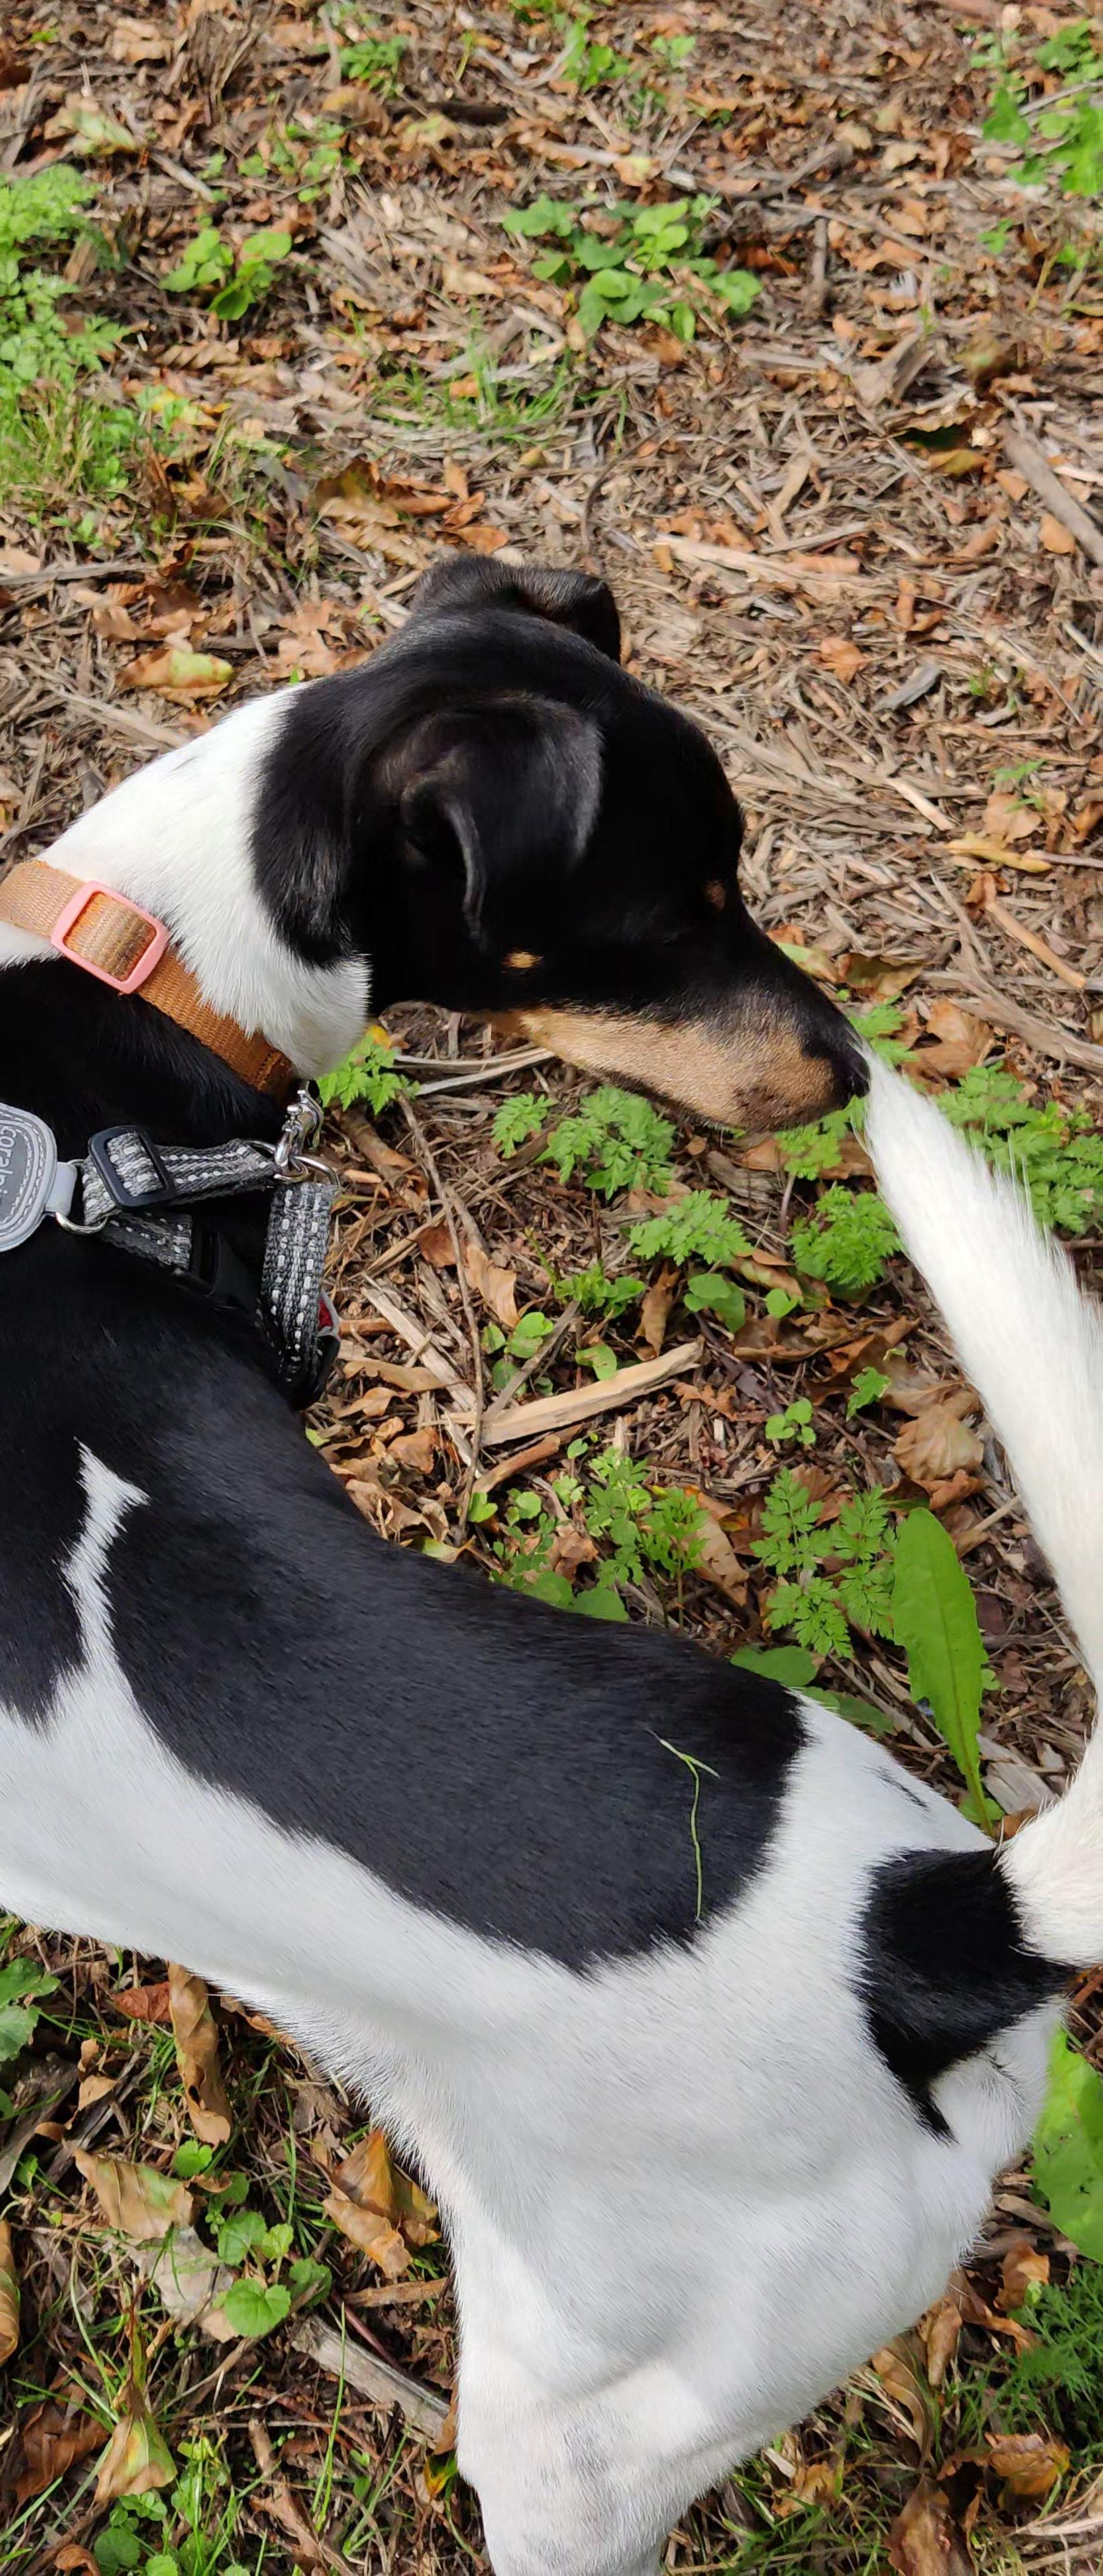Dog: (0, 545, 1103, 2576)
